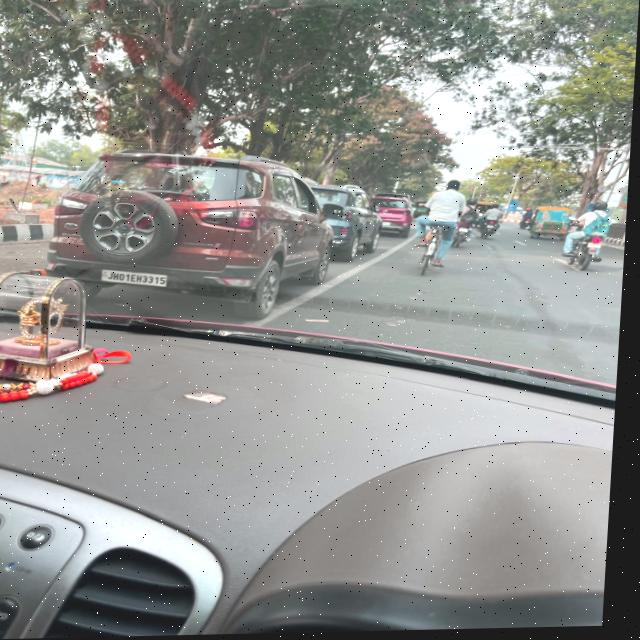bike: (570, 227, 608, 276), (457, 216, 477, 252), (484, 219, 504, 246), (522, 217, 534, 232)
car: (39, 140, 346, 329), (323, 172, 392, 267), (373, 190, 422, 245)
